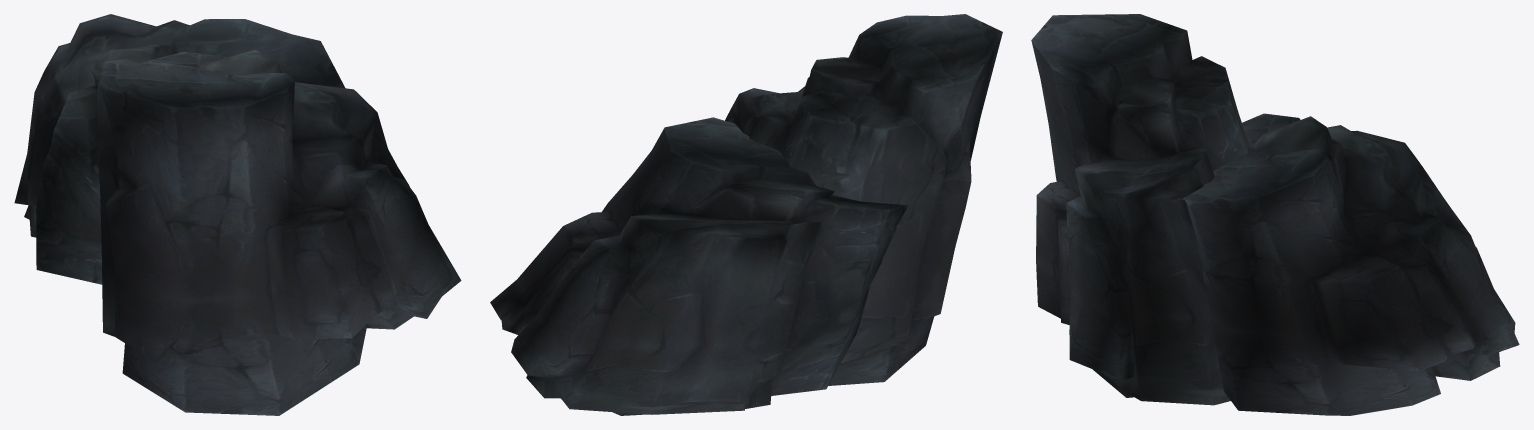
The model's file is rock.obj.
The picture shows the model from 3 angles, left to right: view 1: azimuth 30°, elevation 25°; view 2: azimuth 150°, elevation 25°; view 3: azimuth 270°, elevation 25°; orthographic projection. The views are drawn at different scales.
Parts seen in each view (by area): view 1: world/expansion08/doodads/maw/9maw_groundrock_c01.m2_Geoset_000; view 2: world/expansion08/doodads/maw/9maw_groundrock_c01.m2_Geoset_000; view 3: world/expansion08/doodads/maw/9maw_groundrock_c01.m2_Geoset_000.
Part boxes in pixels (left/top/right/bottom): world/expansion08/doodads/maw/9maw_groundrock_c01.m2_Geoset_000: left=14, top=14, right=461, bottom=415; world/expansion08/doodads/maw/9maw_groundrock_c01.m2_Geoset_000: left=490, top=14, right=1002, bottom=415; world/expansion08/doodads/maw/9maw_groundrock_c01.m2_Geoset_000: left=1031, top=14, right=1519, bottom=415.
Bounding box in the file's own units: 6.83 × 5.64 × 8.62.
Materials: 1 (1 with a texture image).
